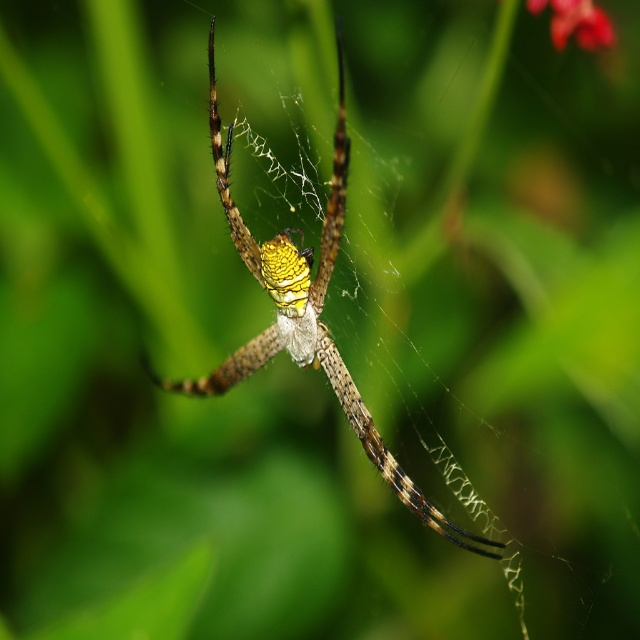Spider: (138, 16, 506, 560)
